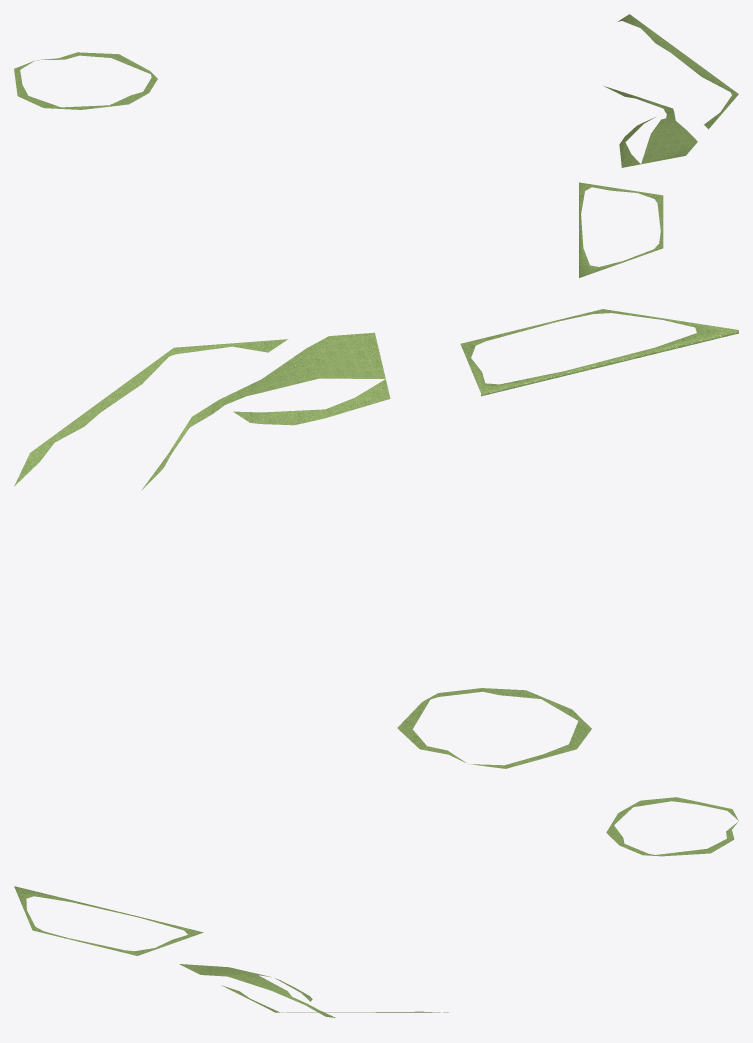
File: kd_stage_135fe0_4_24.glb
The picture shows the model from 3 angles, top to bottom: view 1: azimuth 30°, elevation 25°; view 2: azimuth 150°, elevation 25°; view 3: azimuth 270°, elevation 25°; orthographic projection. The views are drawn at different scales.
Parts seen in each view (by area): view 1: kd_stage_135fe0_4_24; view 2: kd_stage_135fe0_4_24; view 3: kd_stage_135fe0_4_24.
Boxes of the visible parts, <box> form: kd_stage_135fe0_4_24: <box>14,14,738,277</box>; kd_stage_135fe0_4_24: <box>14,309,738,768</box>; kd_stage_135fe0_4_24: <box>14,797,738,1017</box>.
Bounding box in the file's own units: 40.37 × 2.8 × 50.95.
1 material, 1 textured.
